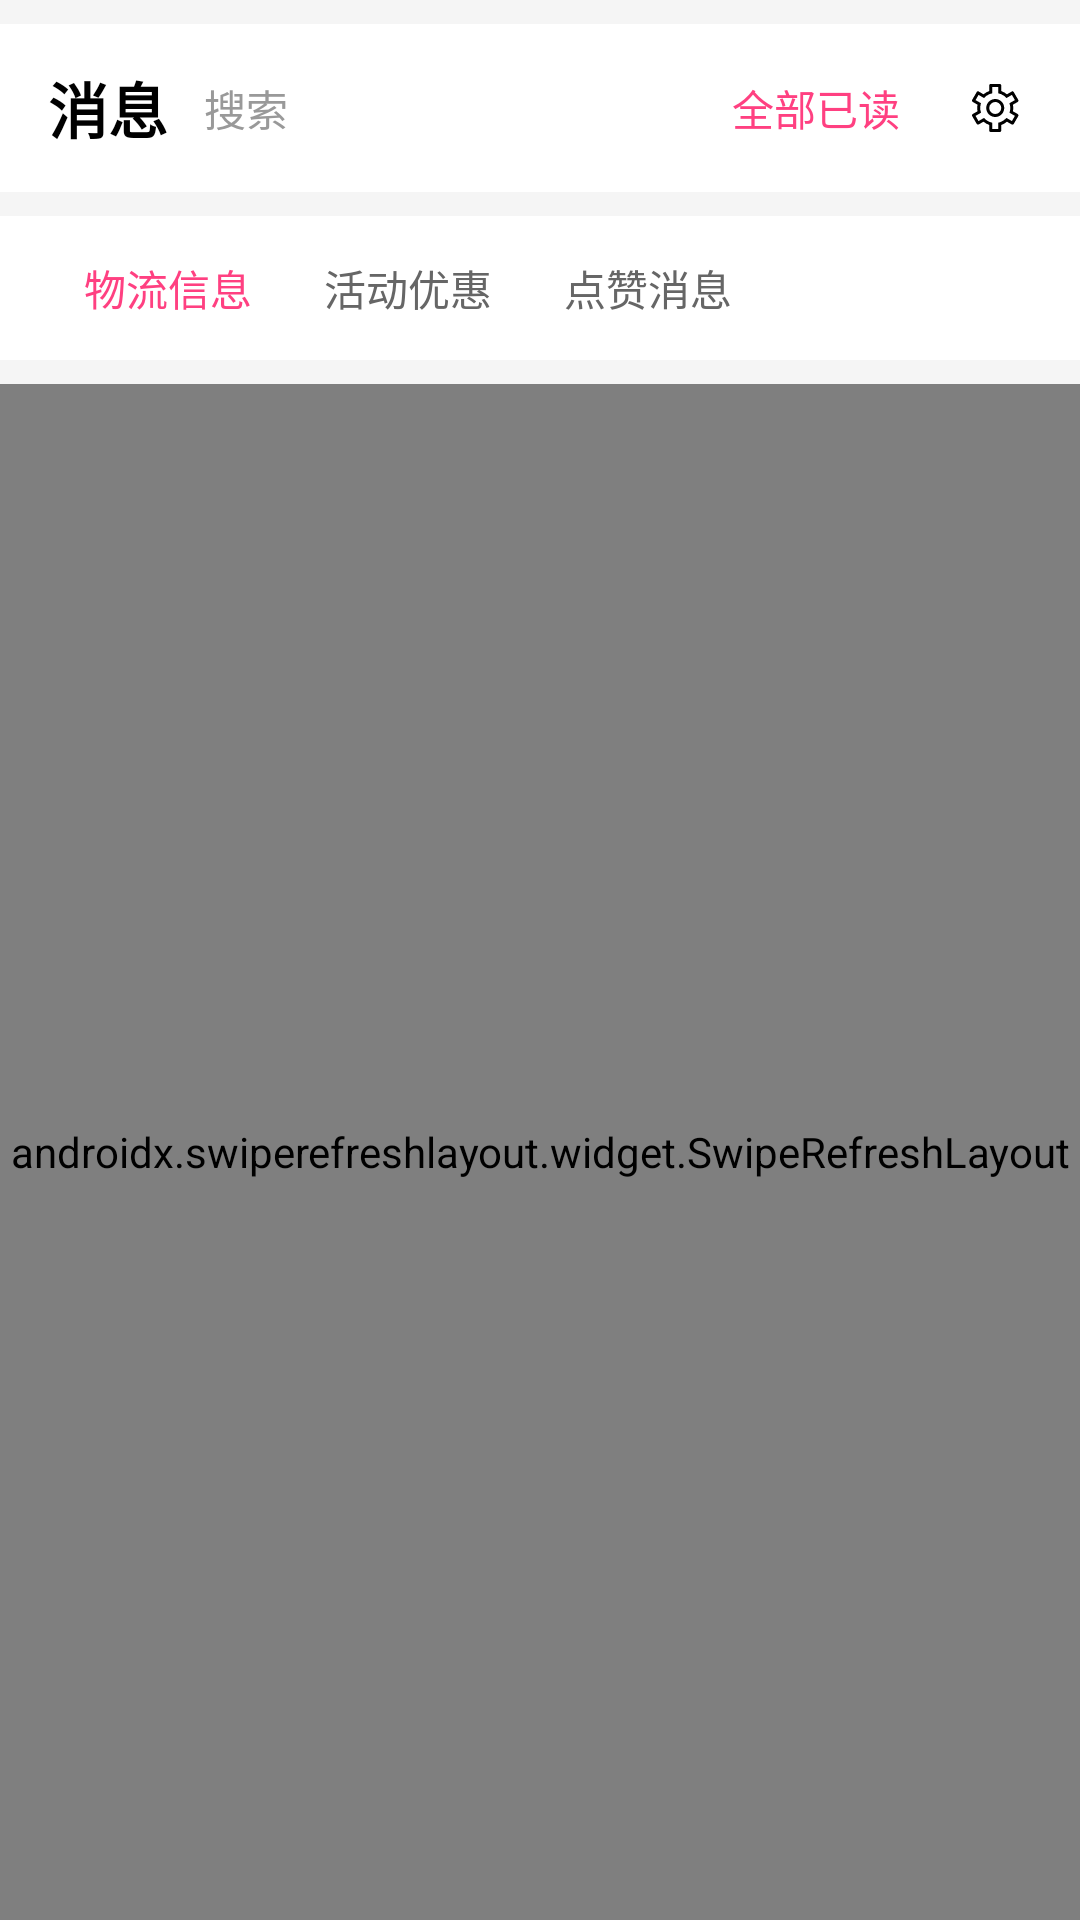

Named icons in this screenshot (1080w x 1920h) and their bounding boxes, (x1, y1, x2, y2):
setting: (972, 84, 1019, 132)
